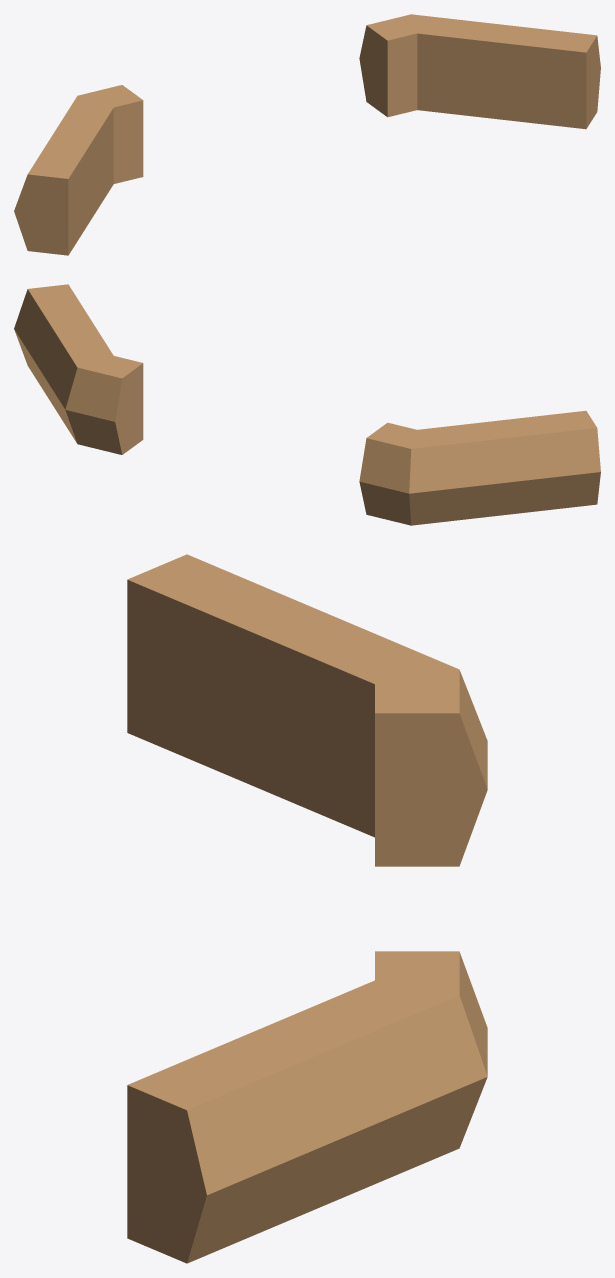
File: Tower_Wall_Tall_Doorway_Base.fbx
The picture shows the model from 3 angles, top to bottom: view 1: azimuth 30°, elevation 25°; view 2: azimuth 150°, elevation 25°; view 3: azimuth 270°, elevation 25°; orthographic projection. The views are drawn at different scales.
Parts seen in each view (by area): view 1: object2, object1; view 2: object1, object2; view 3: object1, object2.
Part boxes in pixels (x1,y1,x2,y2): object2: [359, 14, 600, 129]; object1: [14, 85, 143, 255]; object1: [359, 410, 600, 525]; object2: [14, 284, 143, 454]; object1: [127, 554, 487, 866]; object2: [127, 951, 487, 1263].
Size of the model in its own units: 2.4 by 0.3 by 0.6393.
